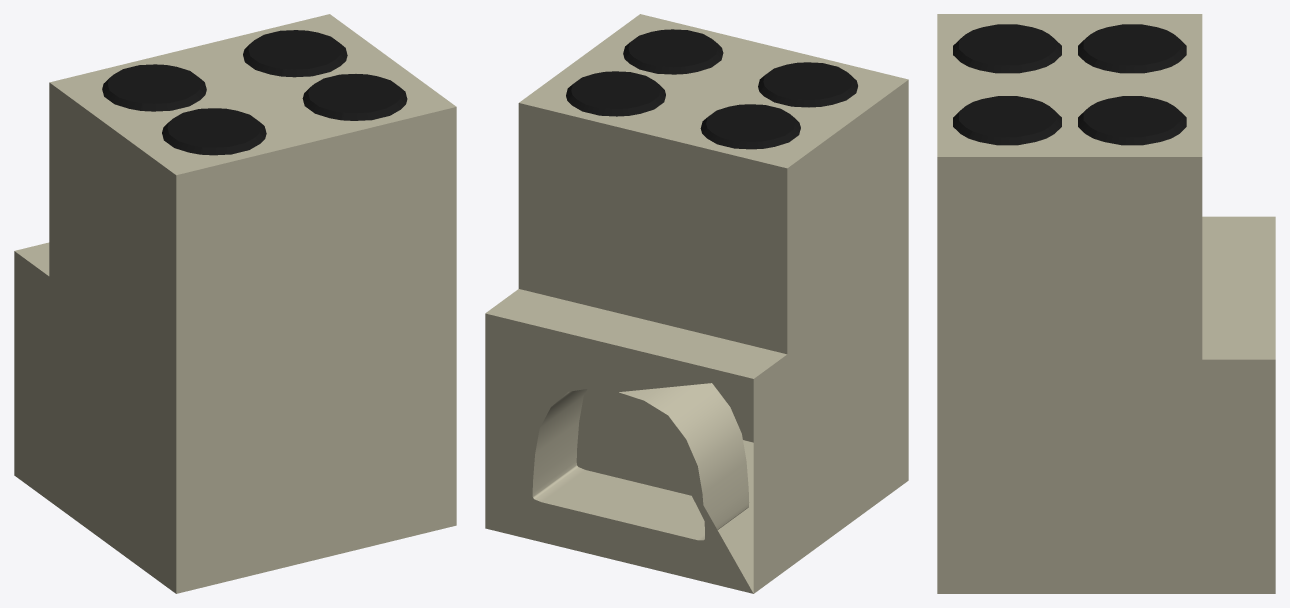
Rendered from oven placeholder 2.fbx.
3 views of the same model, side by side, from view 1: azimuth 30°, elevation 25°; view 2: azimuth 150°, elevation 25°; view 3: azimuth 270°, elevation 25° (orthographic). The views are drawn at different scales.
Visible parts, largest first — view 1: pCube5; view 2: pCube5; view 3: pCube5.
Boxes of the visible parts, box(x1,y1,x2,y2) form: pCube5: box(14, 14, 456, 593); pCube5: box(485, 14, 908, 593); pCube5: box(937, 14, 1275, 593).
Bounding box in the file's own units: 70.35 × 102 × 70.35.
